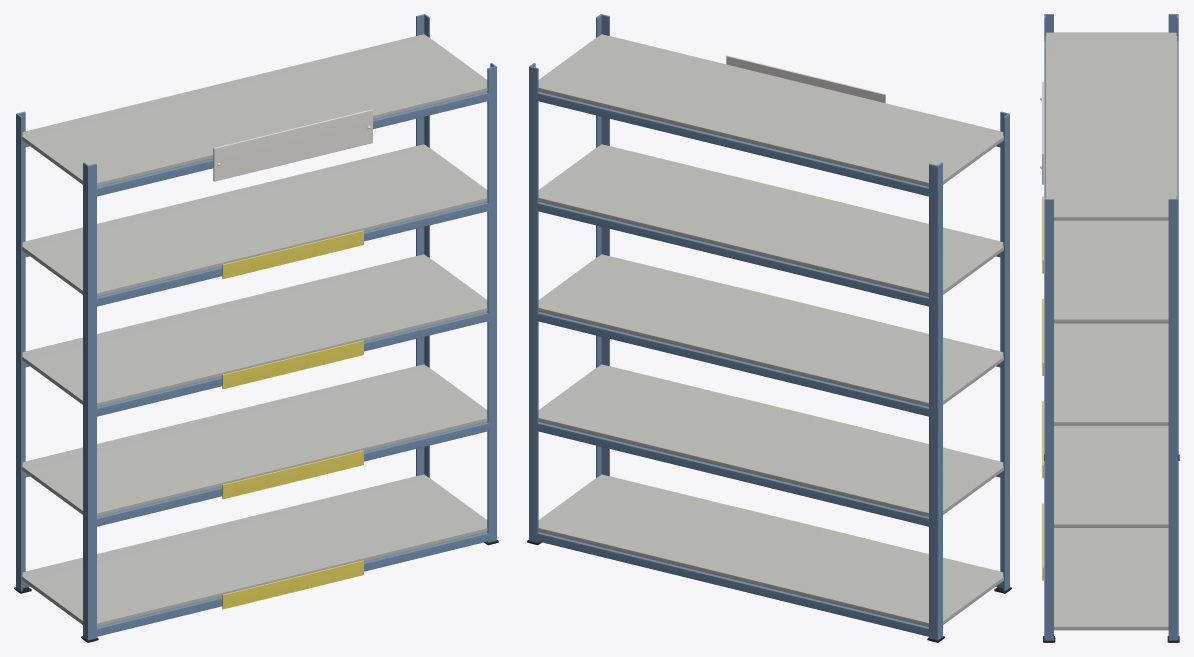
The model's file is industrial.workshop.shelf_staff.glb.
3 views of the same model, side by side, from view 1: azimuth 30°, elevation 25°; view 2: azimuth 150°, elevation 25°; view 3: azimuth 270°, elevation 25° (orthographic). The views are drawn at different scales.
Visible parts, largest first — view 1: main__paint_ccc, main__paint_79b, main__paint_ed6, main__paint_eee; view 2: main__paint_ccc, main__paint_79b, main__paint_eee; view 3: main__paint_ccc, main__paint_79b, main__paint_ed6.
Boxes of the visible parts, box(x1,y1,x2,y2) form: main__paint_ccc: box(22, 34, 487, 626); main__paint_79b: box(16, 14, 496, 642); main__paint_ed6: box(222, 230, 363, 609); main__paint_eee: box(213, 109, 372, 181); main__paint_ccc: box(538, 34, 1003, 626); main__paint_79b: box(529, 14, 1009, 642); main__paint_eee: box(726, 55, 885, 103); main__paint_ccc: box(1045, 32, 1177, 630); main__paint_79b: box(1044, 14, 1178, 642); main__paint_ed6: box(1042, 196, 1043, 580).
Size of the model in its own units: 1.81 by 2 by 0.571.
